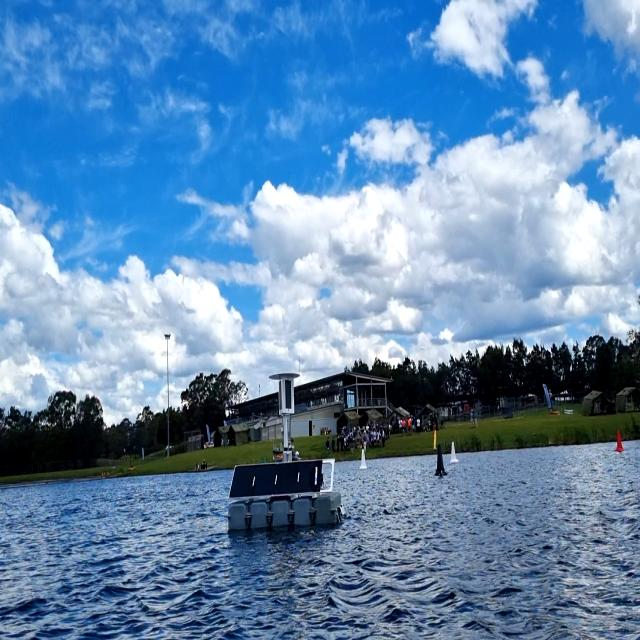led: (279, 376, 294, 412), (283, 377, 294, 412), (278, 379, 282, 412)
